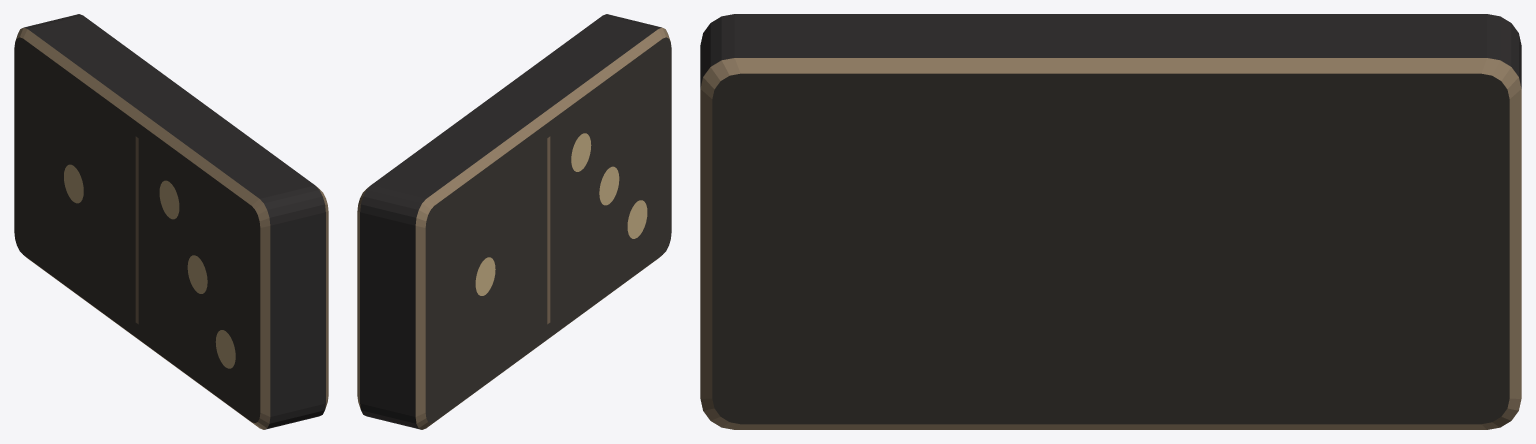
Rendered from domino.obj.
3 renders of one model, left to right at view 1: azimuth 30°, elevation 25°; view 2: azimuth 150°, elevation 25°; view 3: azimuth 270°, elevation 25°, orthographic. The views are drawn at different scales.
Visible parts, largest first — view 1: marked, side, bevel, pip, rule; view 2: marked, side, bevel, pip, rule; view 3: back, side, bevel.
Part boxes in pixels (left/top/right/bottom): marked: left=14, top=37, right=260, bottom=422; side: left=24, top=14, right=325, bottom=429; bevel: left=15, top=27, right=328, bottom=429; pip: left=64, top=164, right=235, bottom=368; rule: left=135, top=136, right=138, bottom=324; marked: left=425, top=37, right=671, bottom=422; side: left=360, top=14, right=661, bottom=429; bevel: left=357, top=27, right=670, bottom=429; pip: left=475, top=133, right=647, bottom=295; rule: left=547, top=136, right=550, bottom=324; back: left=712, top=73, right=1509, bottom=424; side: left=700, top=14, right=1521, bottom=88; bevel: left=700, top=58, right=1521, bottom=429.
Size of the model in its own units: 0.281 by 0.9 by 1.8.
